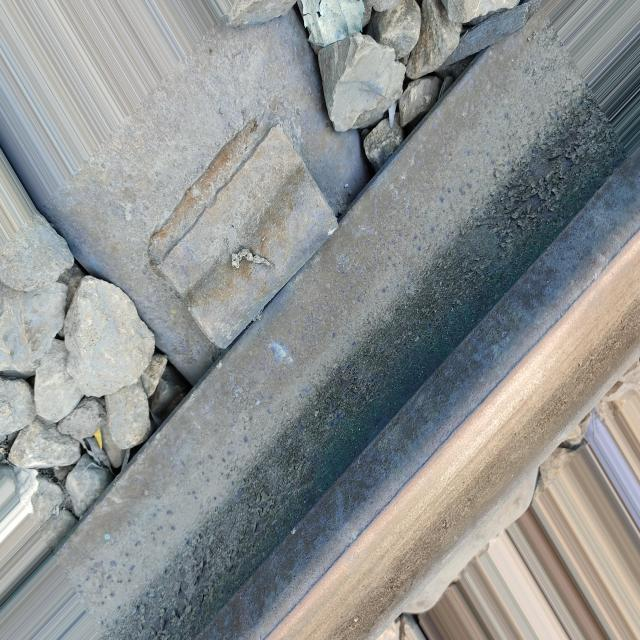Missing Fastener: (129, 106, 350, 364)
